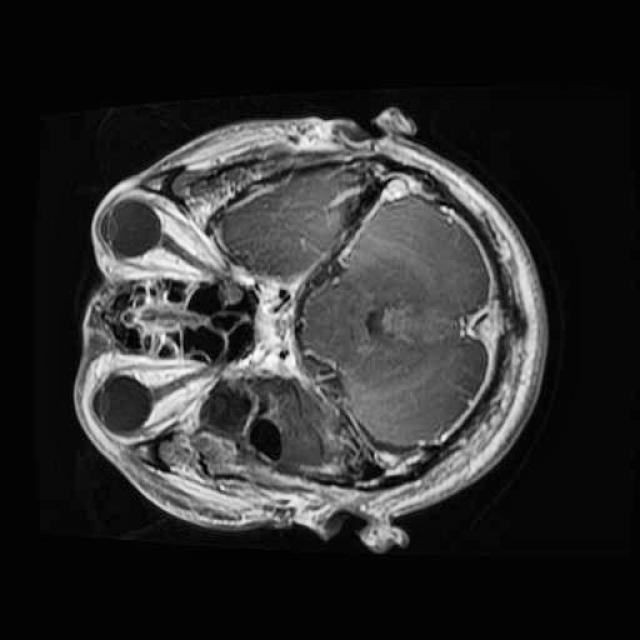Tumor: (176, 351, 363, 501)
